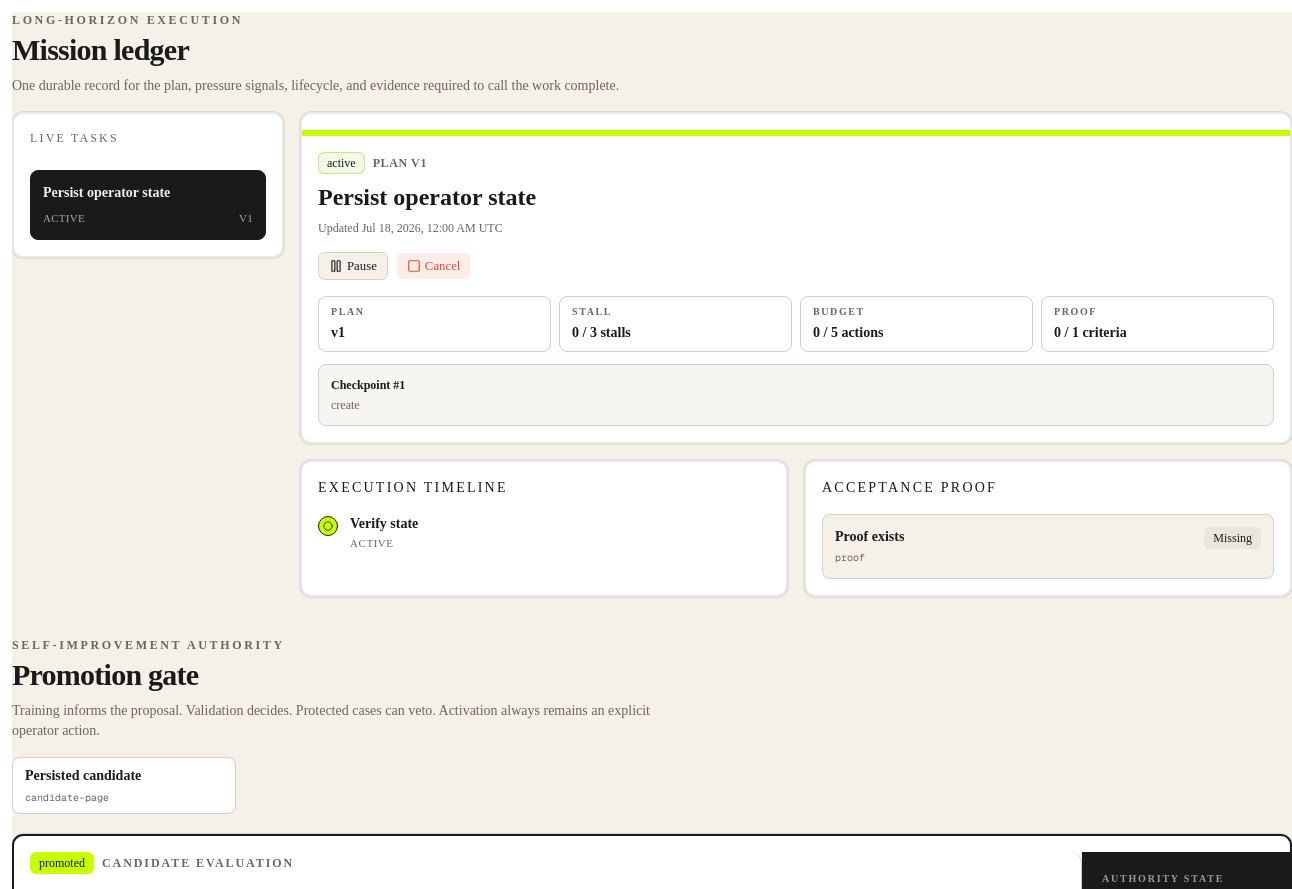
it: TasksPage persistence › explains operator-session requirements after a 401 mutation response
The image size is (1292, 889).
Click the button with aria-label "Pause task". click: point(353, 266)
box: [318, 252, 388, 280]
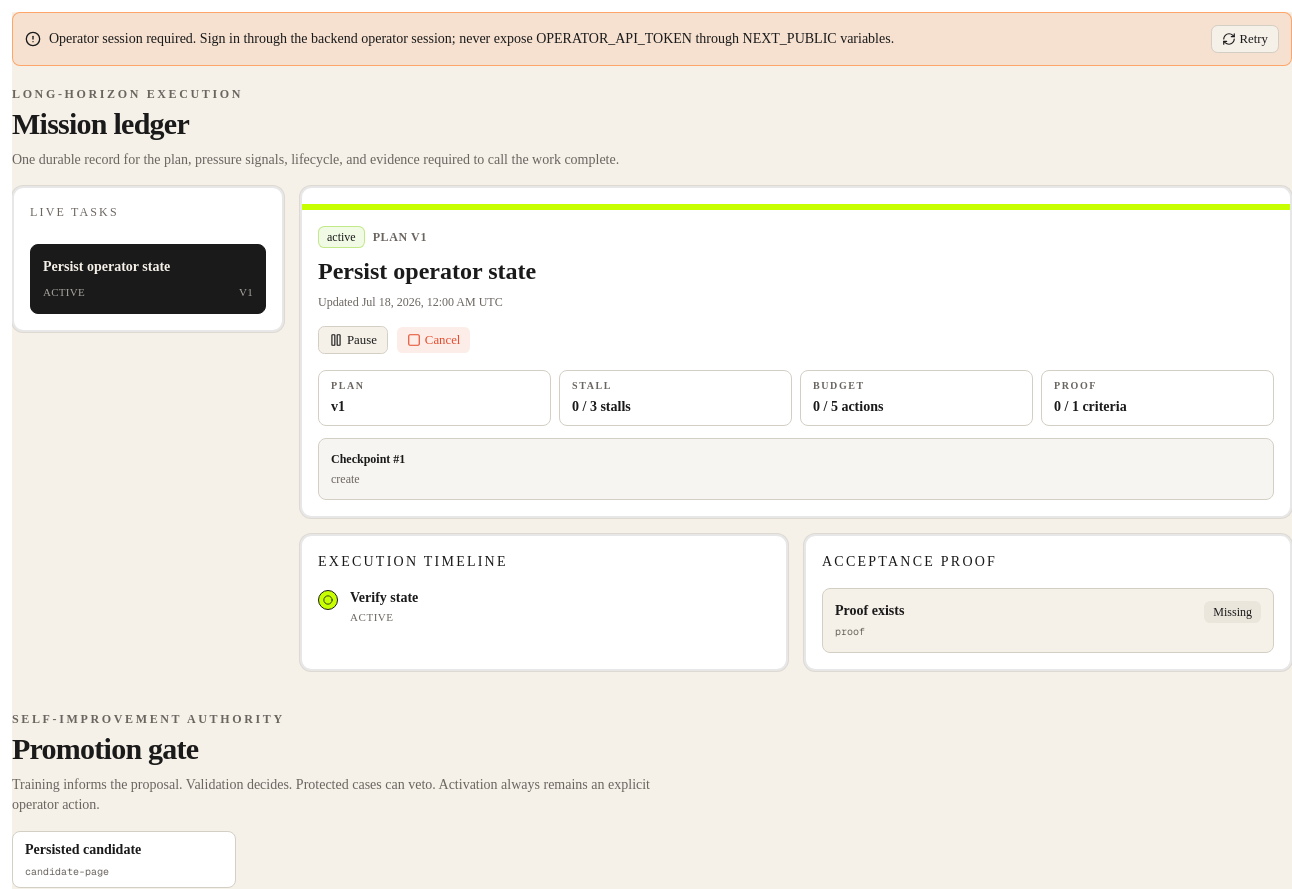
Result: the text "never expose OPERATOR_API_TOKEN through NEXT_PUBLIC" is shown at [49, 31, 894, 46]
